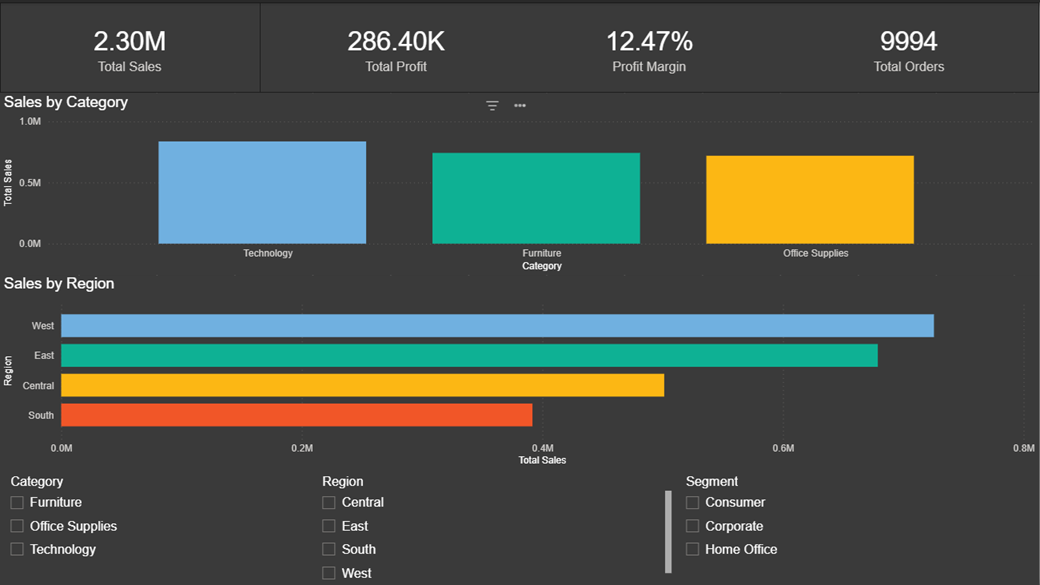

The dashboard page shown, as its layout file describes it:
{"tool":"powerbi","page":{"name":"Page 1","canvas":[1280,720],"ordinal":0},"visuals":[{"type":"card","fields":{"Values":["Superstore Sales Performance.Total Sales"]},"box":[0,0,320,112],"z":0,"group":"g1"},{"type":"clusteredColumnChart","title":"Sales by Category","fields":{"Category":["Superstore Sales Performance.Category"],"Y":["Superstore Sales Performance.Total Sales"]},"box":[0,112,1280,224],"z":0},{"type":"slicer","fields":{"Values":["Superstore Sales Performance.Region"]},"box":[384,576,448,144],"z":0,"group":"g2"},{"type":"group","id":"g1","title":"Group 1","box":[0,0,1280,112],"z":1000},{"type":"card","fields":{"Values":["Superstore Sales Performance.Total Profit"]},"box":[320,0,336,112],"z":1000,"group":"g1"},{"type":"clusteredBarChart","title":"Sales by Region","fields":{"Category":["Superstore Sales Performance.Region"],"Y":["Superstore Sales Performance.Total Sales"]},"box":[0,336,1280,240],"z":1000},{"type":"slicer","fields":{"Values":["Superstore Sales Performance.Category"]},"box":[0,576,384,144],"z":1000,"group":"g2"},{"type":"card","fields":{"Values":["Superstore Sales Performance.Profit Margin"]},"box":[640,0,320,112],"z":2000,"group":"g1"},{"type":"slicer","fields":{"Values":["Superstore Sales Performance.Segment"]},"box":[832,576,448,144],"z":2000,"group":"g2"},{"type":"card","fields":{"Values":["Superstore Sales Performance.Total Orders"]},"box":[960,0,320,112],"z":3000,"group":"g1"},{"type":"group","id":"g2","title":"Group 4","box":[0,576,1280,144],"z":3000}]}

Visuals, with their boxes in screenshot pixels (x1, y1, x2, y2), scaled from the page's 1280x720 canvas onto the 1040x585 screenshot:
card - Superstore Sales Performance.Total Sales: [x1=0, y1=0, x2=260, y2=91]
"Sales by Category" clusteredColumnChart: [x1=0, y1=91, x2=1039, y2=273]
slicer - Superstore Sales Performance.Region: [x1=312, y1=468, x2=676, y2=584]
"Group 1" group: [x1=0, y1=0, x2=1039, y2=91]
card - Superstore Sales Performance.Total Profit: [x1=260, y1=0, x2=533, y2=91]
"Sales by Region" clusteredBarChart: [x1=0, y1=273, x2=1039, y2=468]
slicer - Superstore Sales Performance.Category: [x1=0, y1=468, x2=312, y2=584]
card - Superstore Sales Performance.Profit Margin: [x1=520, y1=0, x2=780, y2=91]
slicer - Superstore Sales Performance.Segment: [x1=676, y1=468, x2=1039, y2=584]
card - Superstore Sales Performance.Total Orders: [x1=780, y1=0, x2=1039, y2=91]
"Group 4" group: [x1=0, y1=468, x2=1039, y2=584]
